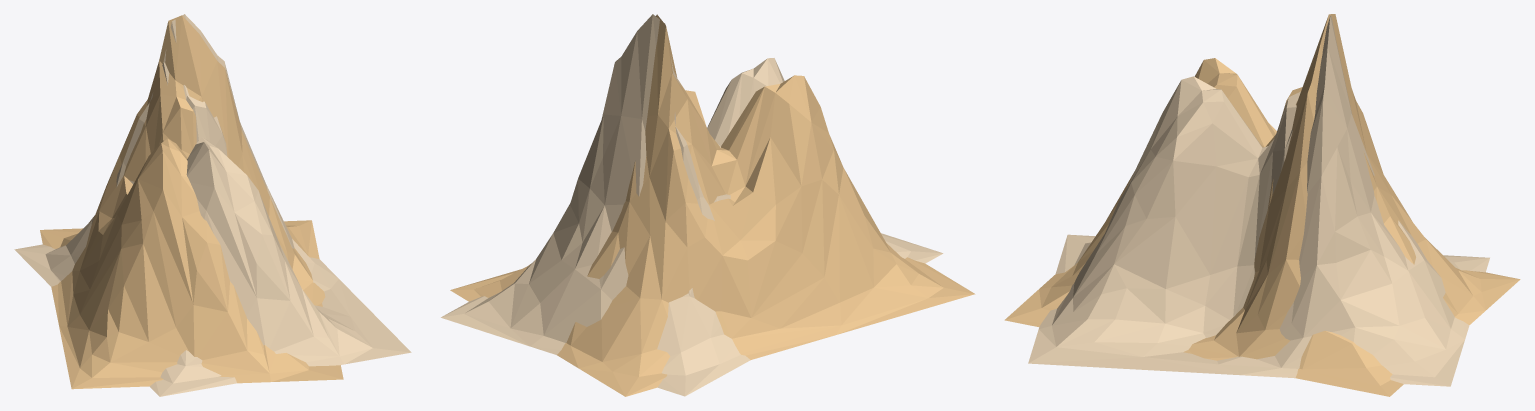
The model's file is mount6_00008.fbx.
3 views of the same model, side by side, from view 1: azimuth 30°, elevation 25°; view 2: azimuth 150°, elevation 25°; view 3: azimuth 270°, elevation 25° (orthographic). The views are drawn at different scales.
Parts seen in each view (by area): view 1: mount6; view 2: mount6; view 3: mount6.
Boxes of the visible parts, x1,y1,x2,y2 form: mount6: (14,14,411,396); mount6: (441,14,975,396); mount6: (1004,14,1520,396).
Bounding box in the file's own units: 3946 × 2810 × 4433.
